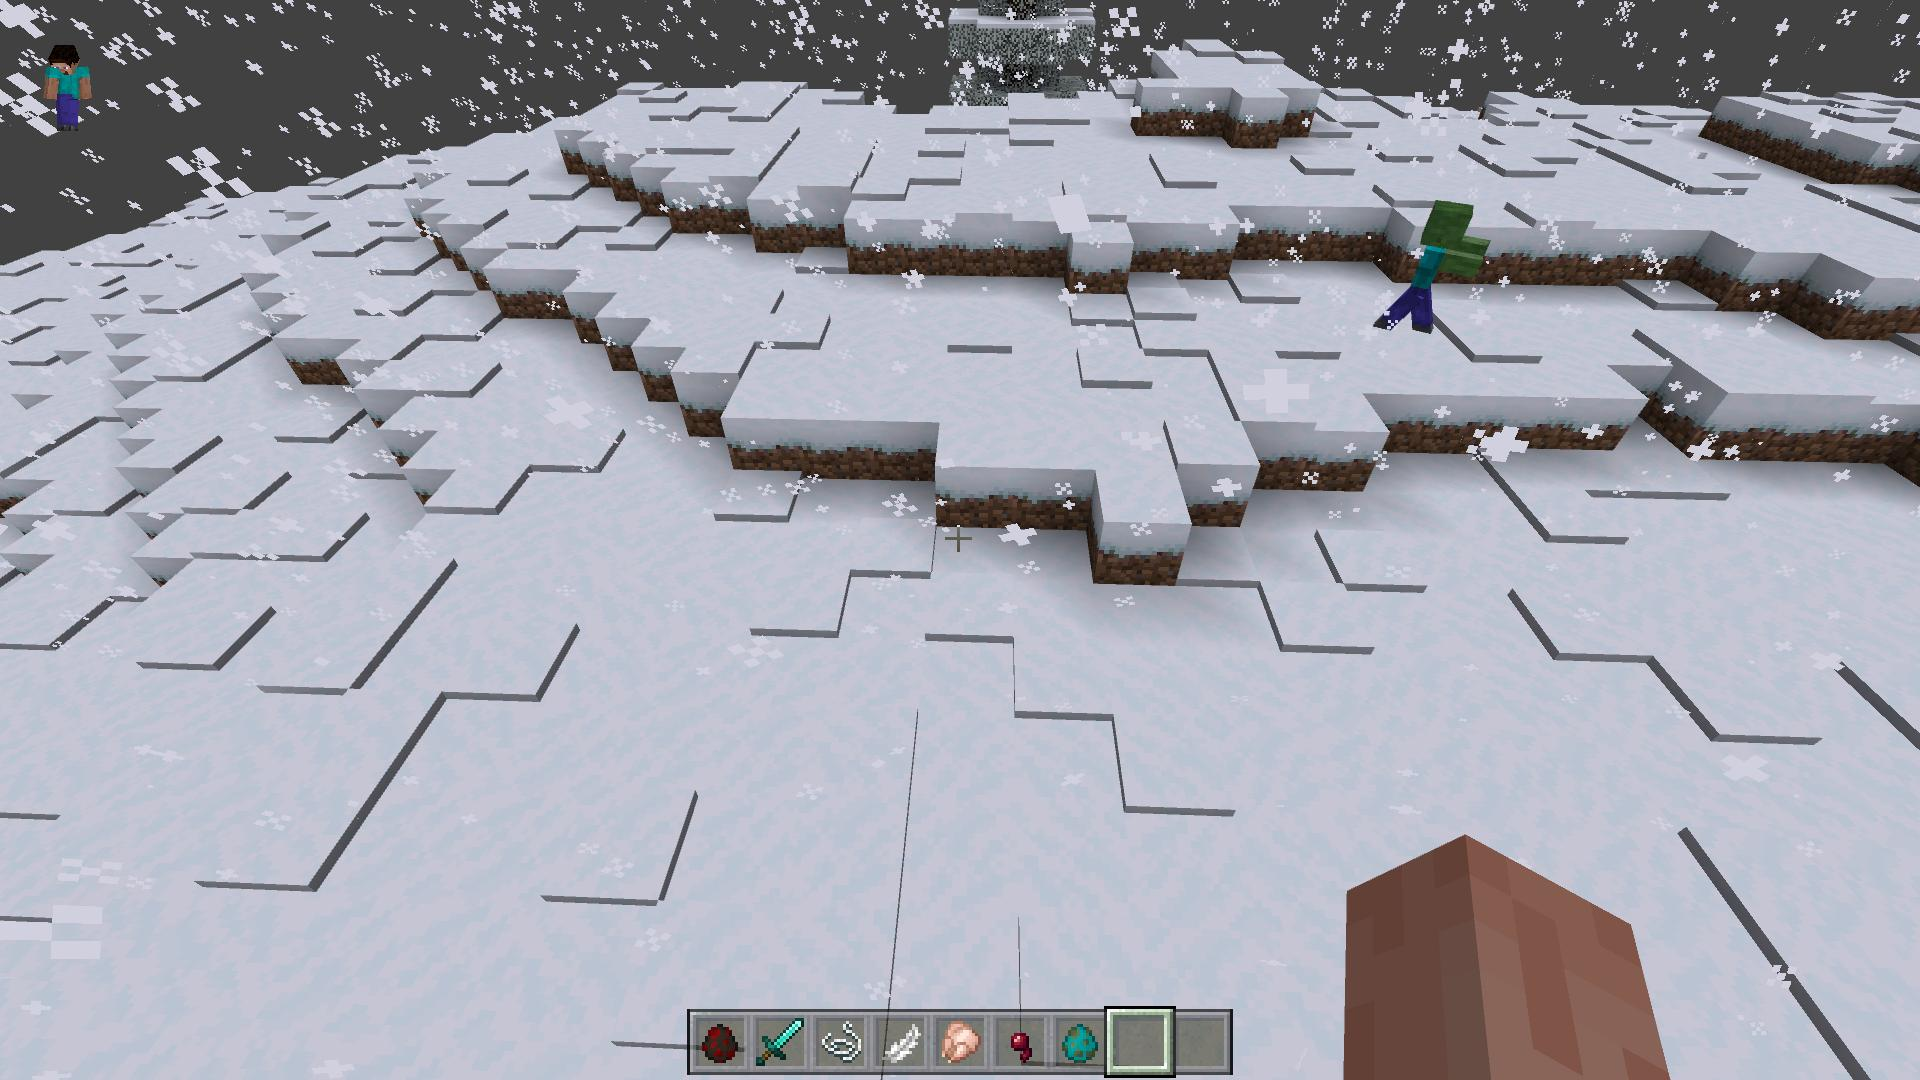zombie: (1377, 198, 1490, 340)
